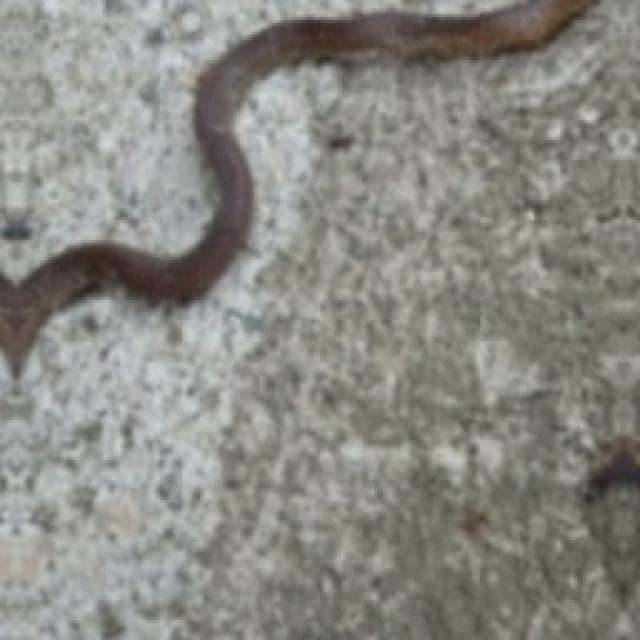gervais worm snake: (0, 0, 591, 374)
